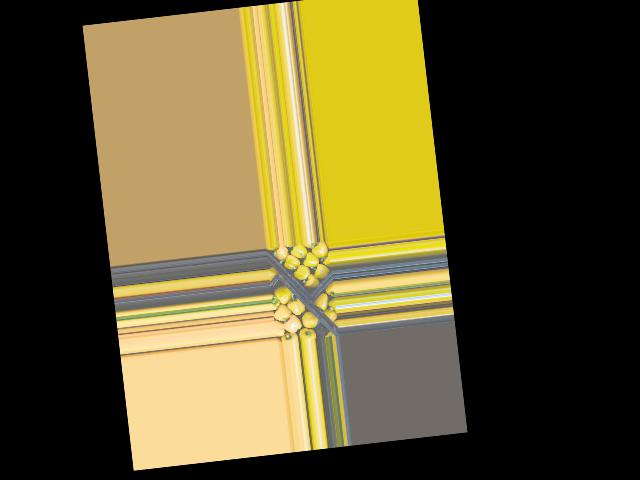bell_pepper: (313, 241, 331, 261)
